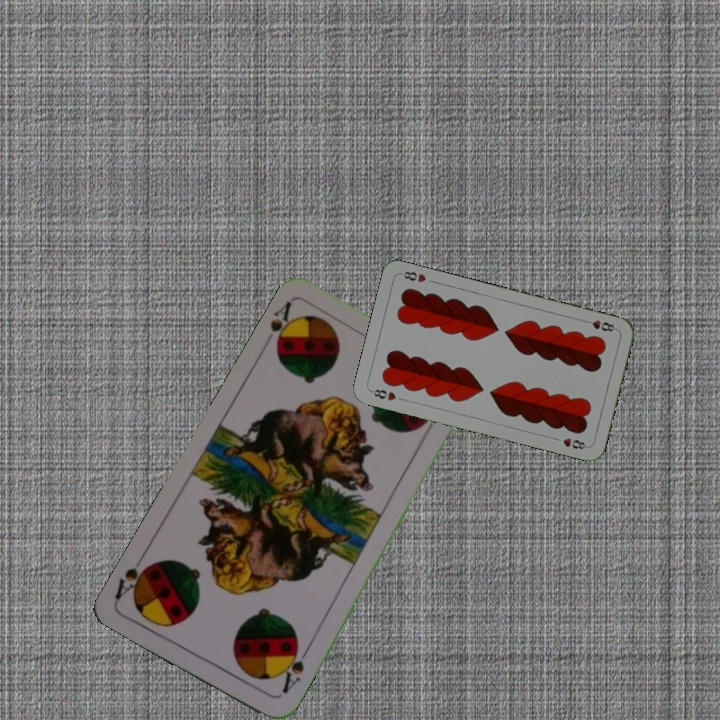H8: (579, 316, 619, 334), (367, 385, 399, 403)
SA: (266, 297, 301, 358), (275, 640, 311, 697)
